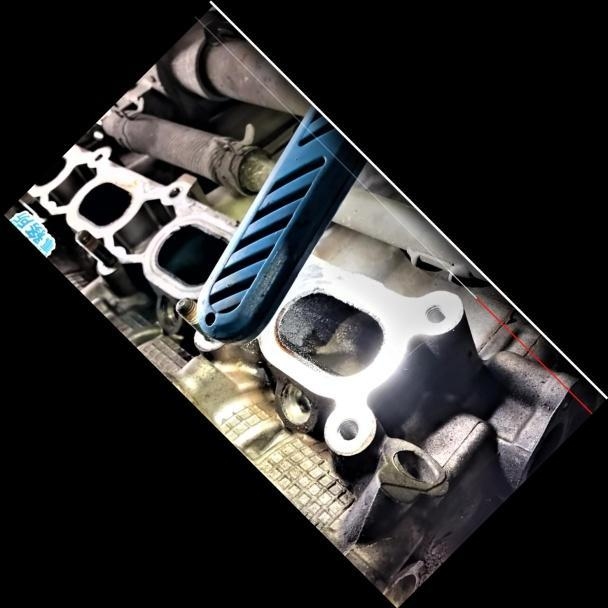hole: (331, 412, 365, 446), (420, 296, 453, 329), (164, 181, 185, 202)
